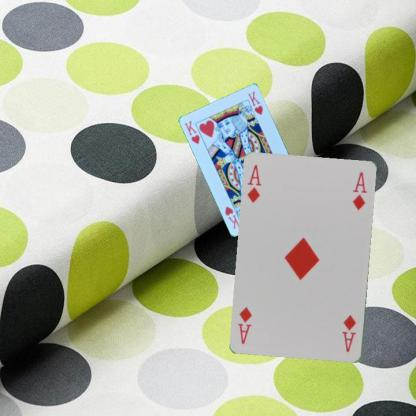Ad: (245, 162, 263, 204), (340, 313, 358, 354)
Kh: (182, 118, 201, 145)
